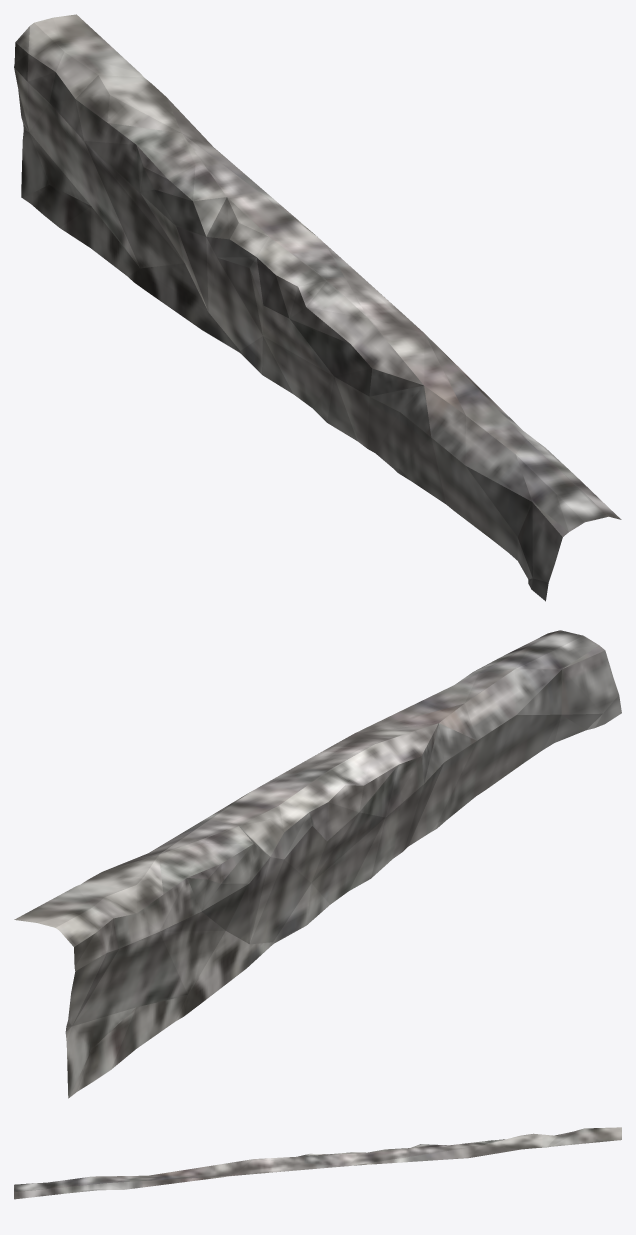
The picture shows the model from 3 angles, top to bottom: view 1: azimuth 30°, elevation 25°; view 2: azimuth 150°, elevation 25°; view 3: azimuth 270°, elevation 25°; orthographic projection. The views are drawn at different scales.
Size of the model in its own units: 0.1349 by 0.2912 by 1.67.
Materials: 1 (1 with a texture image).
